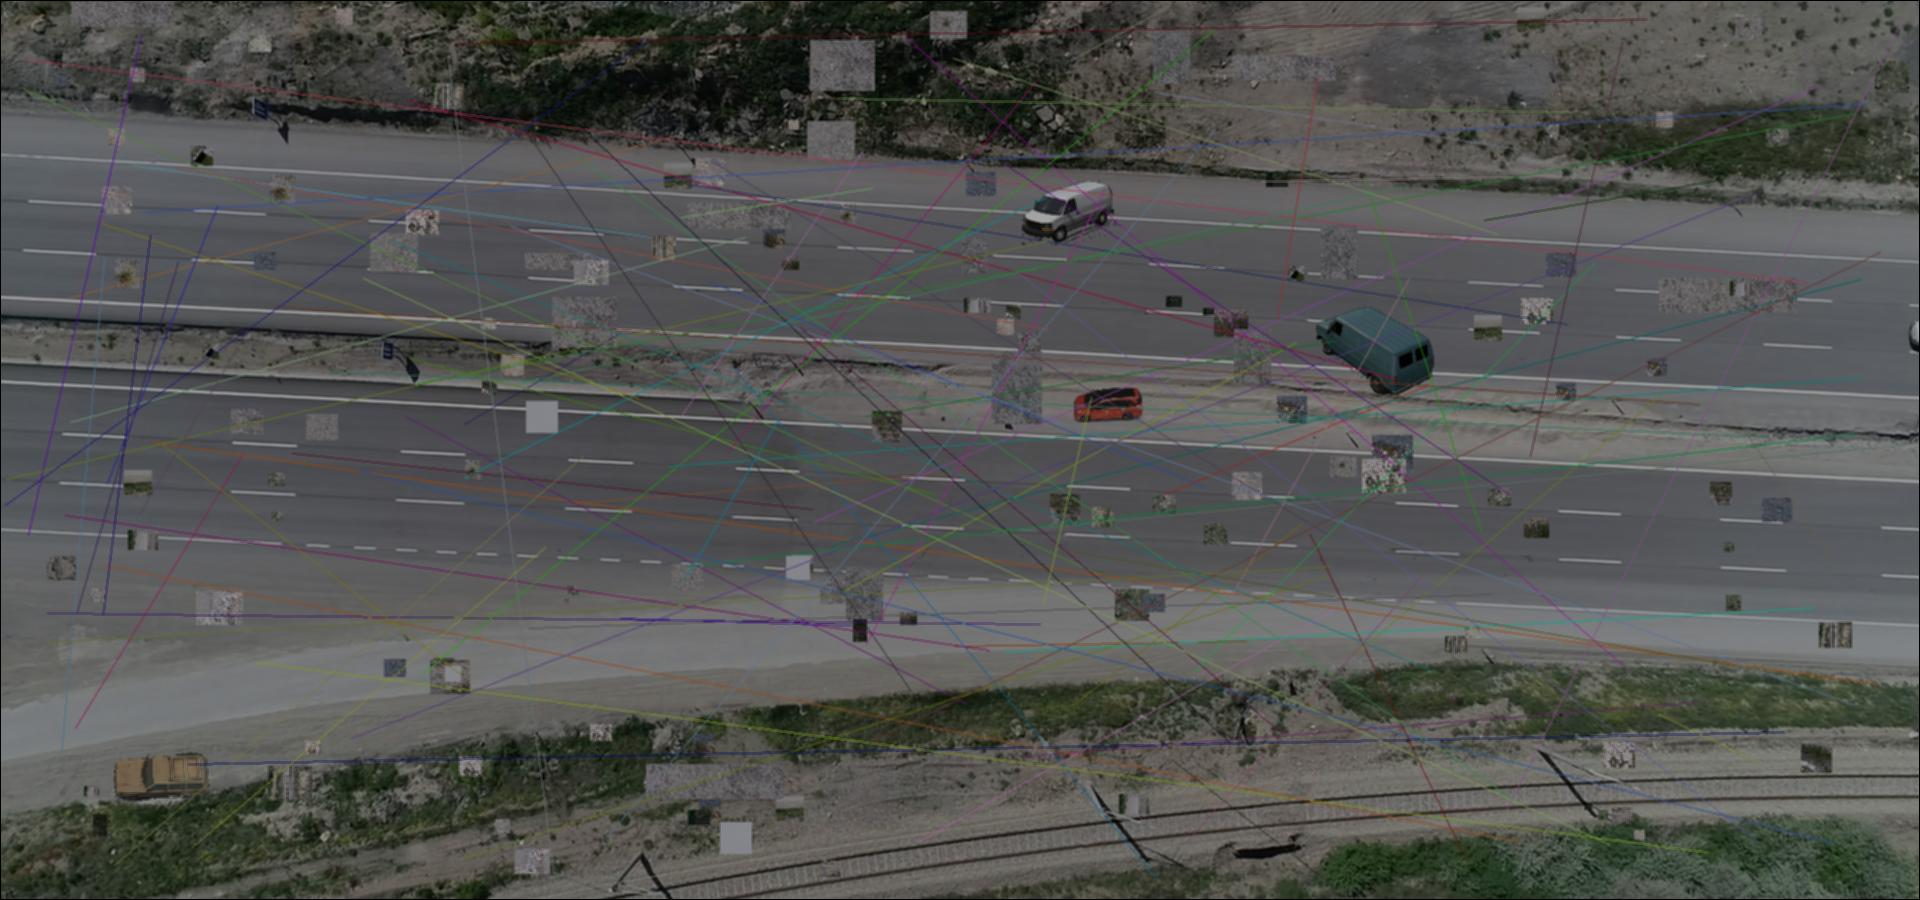arac: (1314, 302, 1435, 396), (1022, 180, 1114, 245), (113, 749, 212, 804), (1074, 388, 1142, 422)
